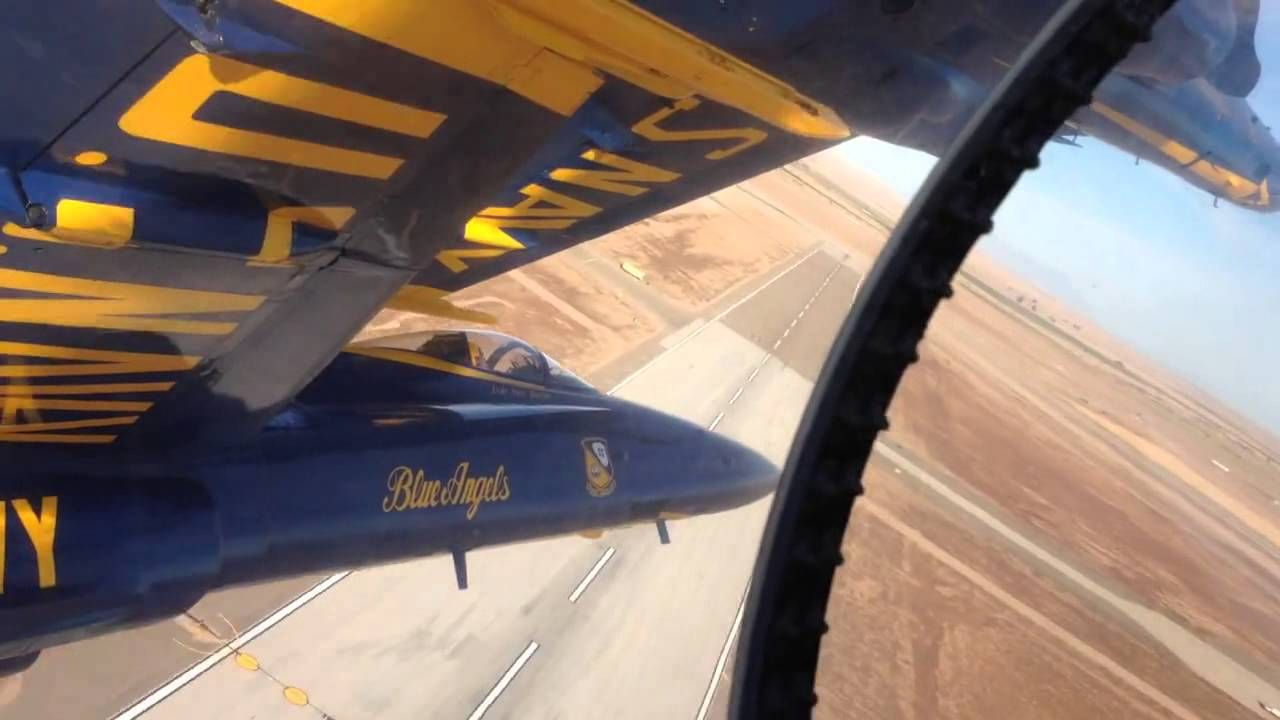airplane: (1, 1, 852, 678), (384, 1, 1280, 325)
